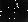person: (11, 5, 18, 16)
